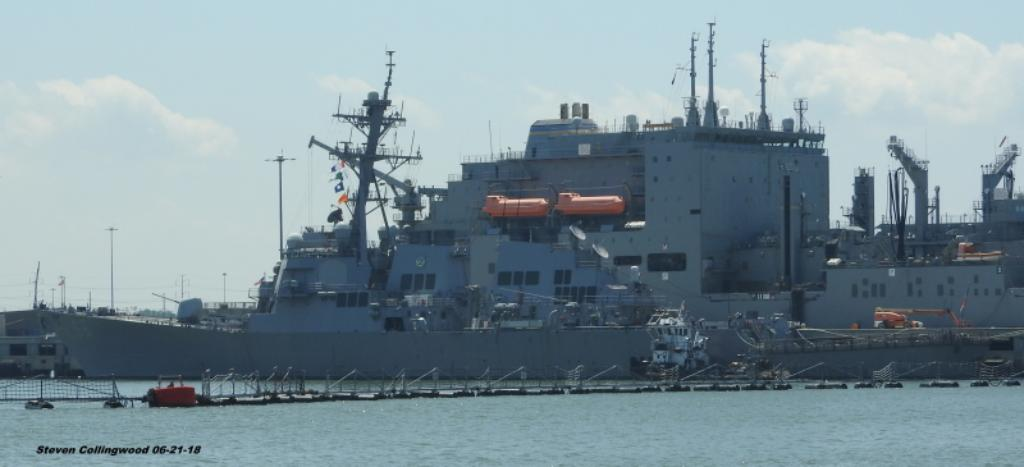Warship: (38, 46, 1024, 378)
